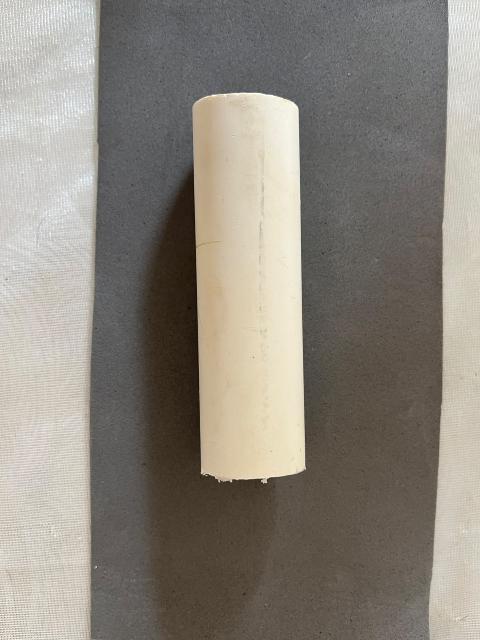PVC: (151, 56, 379, 521)
